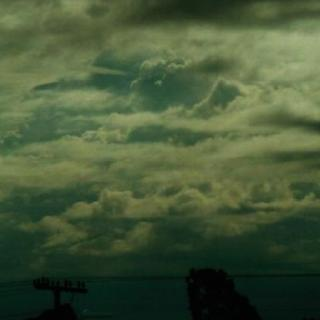Stratocumulus: (4, 0, 320, 260)
